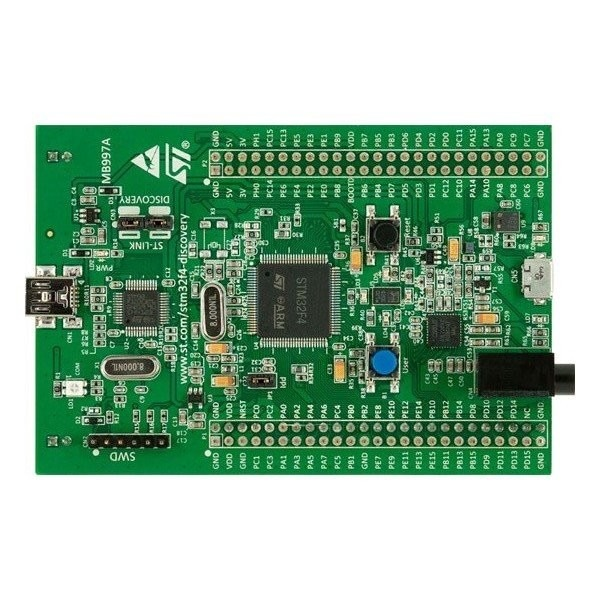STM32F4-DISC: (0, 113, 600, 493)
